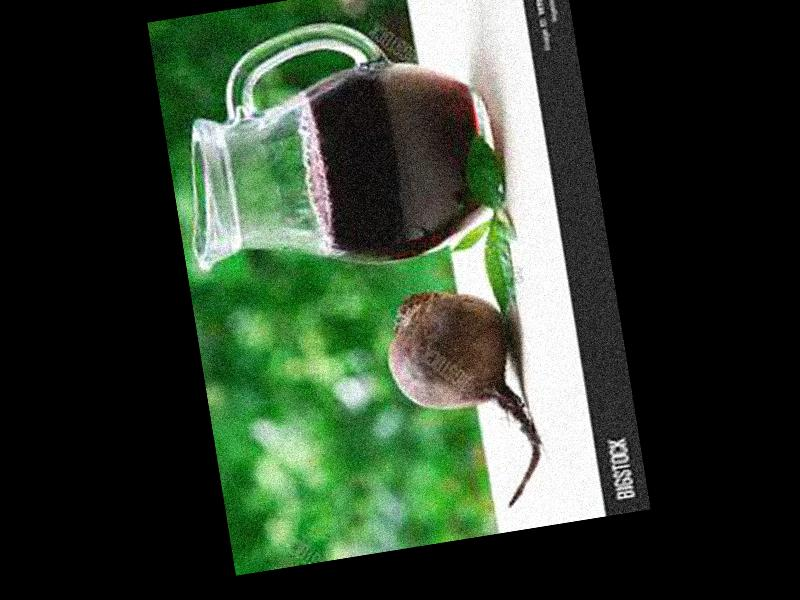Beet: (380, 279, 550, 520)
